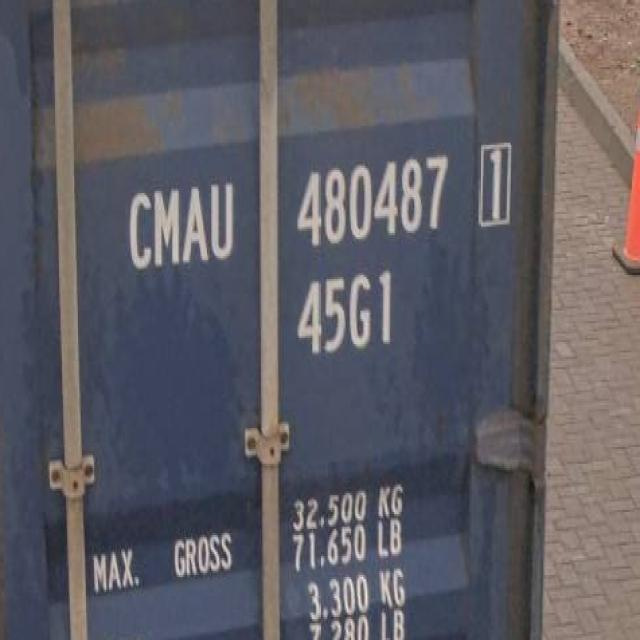dv: (473, 138, 515, 236)
owner: (123, 177, 240, 271)
serial: (295, 147, 448, 252)
size: (290, 265, 404, 363)
